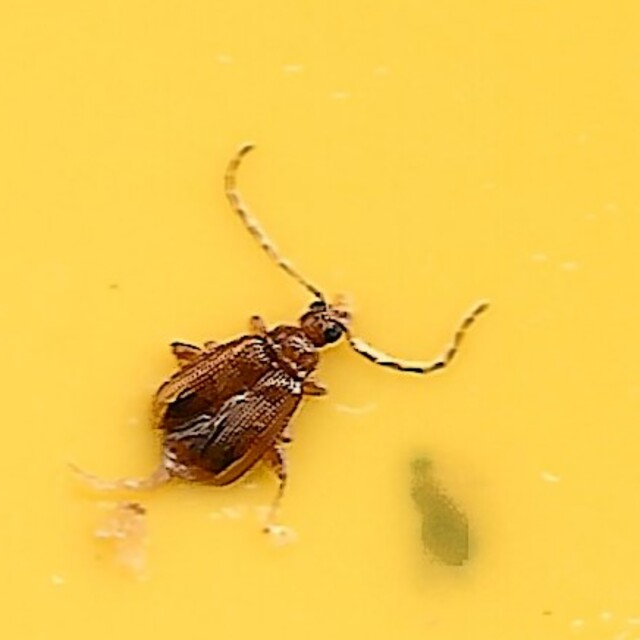Coleoptera: (147, 148, 493, 492)
